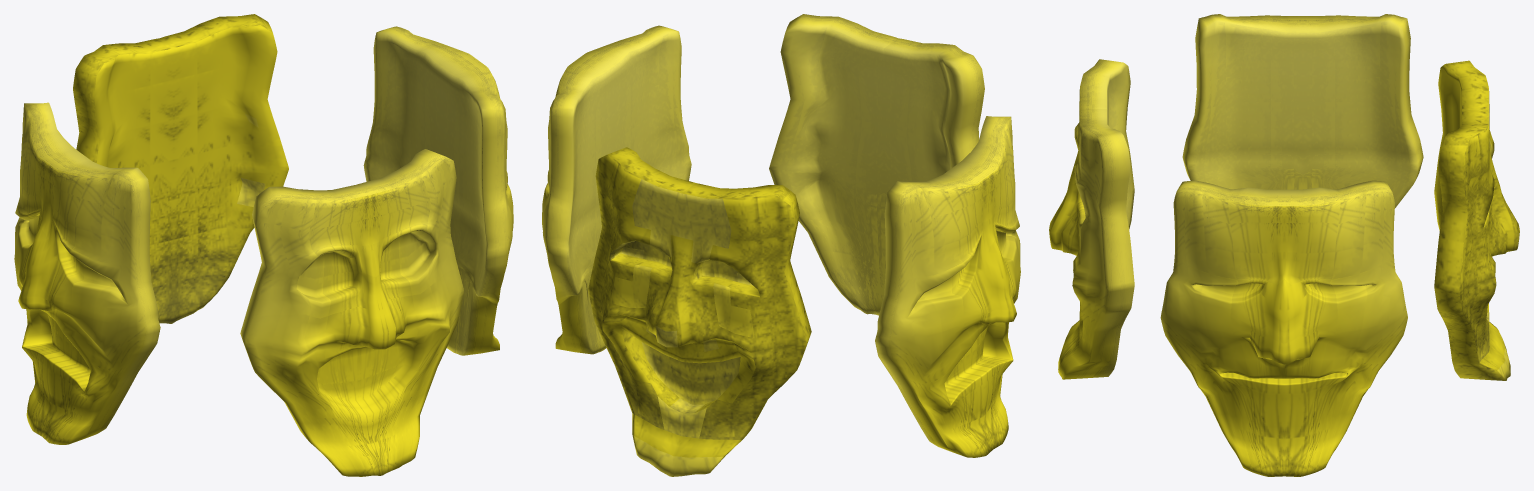
3 renders of one model, left to right at view 1: azimuth 30°, elevation 25°; view 2: azimuth 150°, elevation 25°; view 3: azimuth 270°, elevation 25°, orthographic. The views are drawn at different scales.
Visible parts, largest first — view 1: Mask Soy, Mask Happy, Mask Unhappy, Mask Bored; view 2: Mask Happy, Mask Soy, Mask Unhappy, Mask Bored; view 3: Mask Bored, Mask Unhappy, Mask Soy, Mask Happy.
Part boxes in pixels (left/top/right/bottom): Mask Soy: left=240, top=149, right=463, bottom=476; Mask Happy: left=73, top=14, right=288, bottom=323; Mask Unhappy: left=14, top=102, right=160, bottom=444; Mask Bored: left=363, top=26, right=513, bottom=355; Mask Happy: left=588, top=147, right=811, bottom=476; Mask Soy: left=769, top=14, right=984, bottom=315; Mask Unhappy: left=875, top=116, right=1020, bottom=457; Mask Bored: left=542, top=25, right=691, bottom=354; Mask Bored: left=1160, top=180, right=1407, bottom=476; Mask Unhappy: left=1182, top=14, right=1423, bottom=207; Mask Soy: left=1049, top=59, right=1134, bottom=379; Mask Happy: left=1434, top=60, right=1519, bottom=380.
Size of the model in its own units: 372 by 217 by 333.
Materials: 1 (1 with a texture image).
